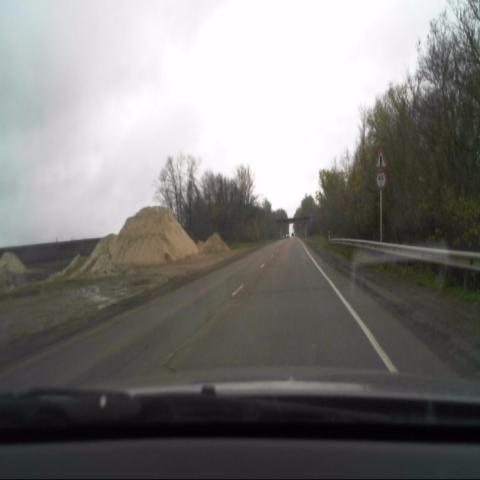2_3_2: (374, 148, 386, 170)
